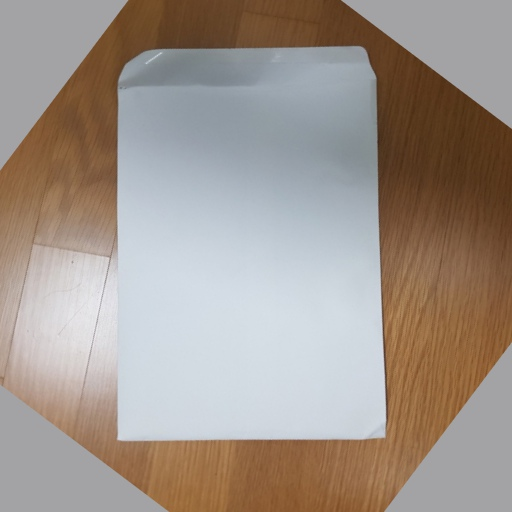Paper_2: (113, 40, 399, 453)
